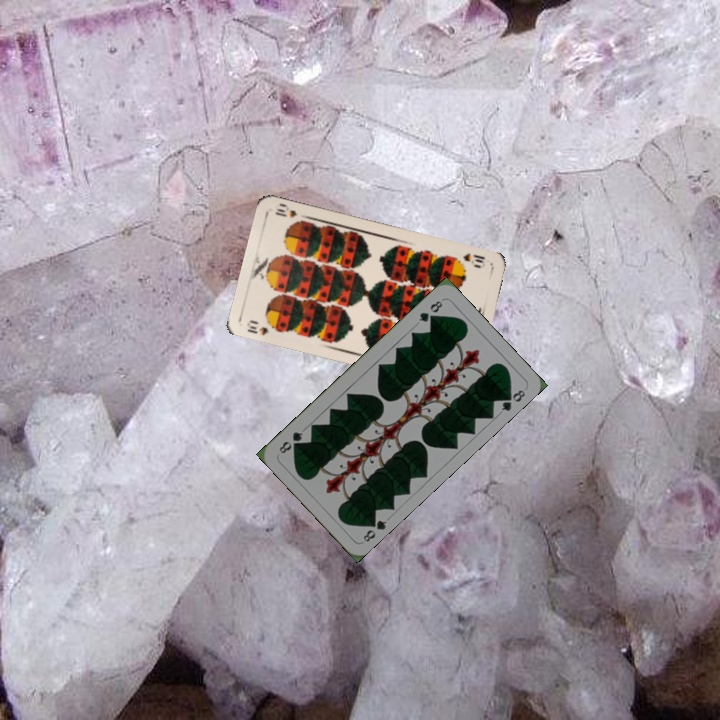G8: (359, 514, 389, 545), (414, 296, 445, 325)
S10: (243, 316, 280, 338), (459, 249, 487, 265)
